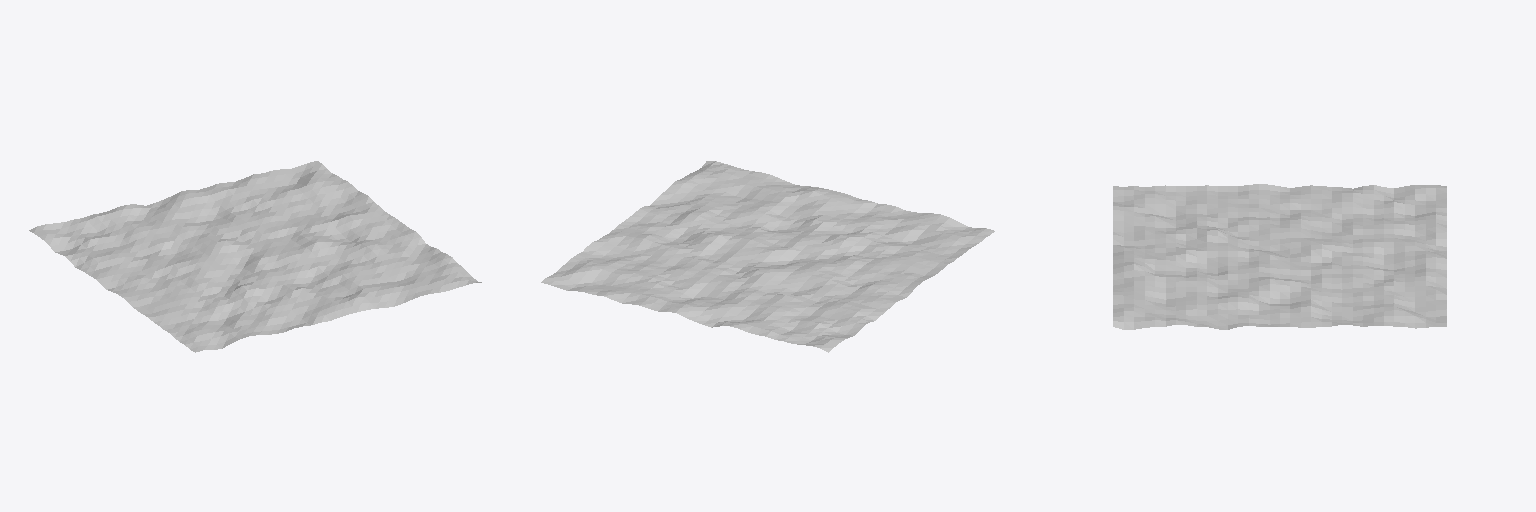
Rendered from undulatingGround.obj.
3 views of the same model, side by side, from view 1: azimuth 30°, elevation 25°; view 2: azimuth 150°, elevation 25°; view 3: azimuth 270°, elevation 25° (orthographic).
Parts seen in each view (by area): view 1: Plane; view 2: Plane; view 3: Plane.
Boxes of the visible parts, x1,y1,x2,y2 form: Plane: [29, 161, 481, 352]; Plane: [541, 161, 994, 352]; Plane: [1113, 184, 1446, 329].
Size of the model in its own units: 11.05 by 0.3735 by 11.05.